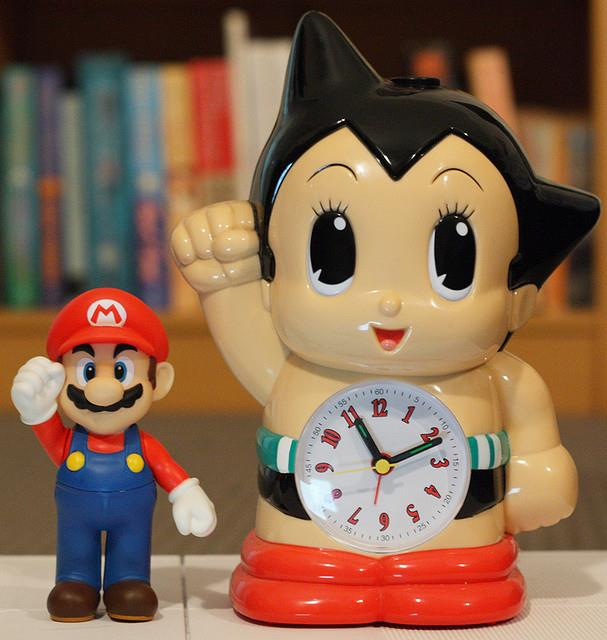mario: (10, 282, 216, 617)
